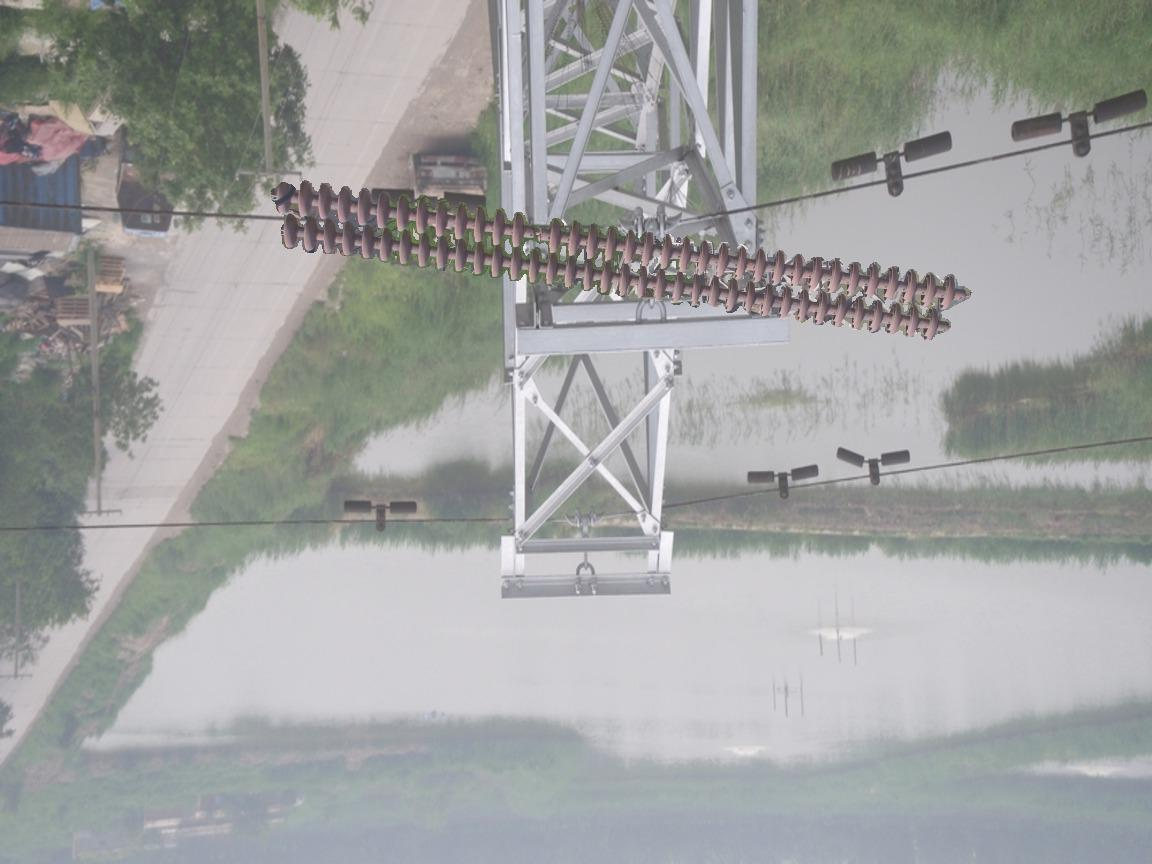insulator: (271, 179, 967, 347)
insulator_stringdrop: (506, 208, 566, 257)
